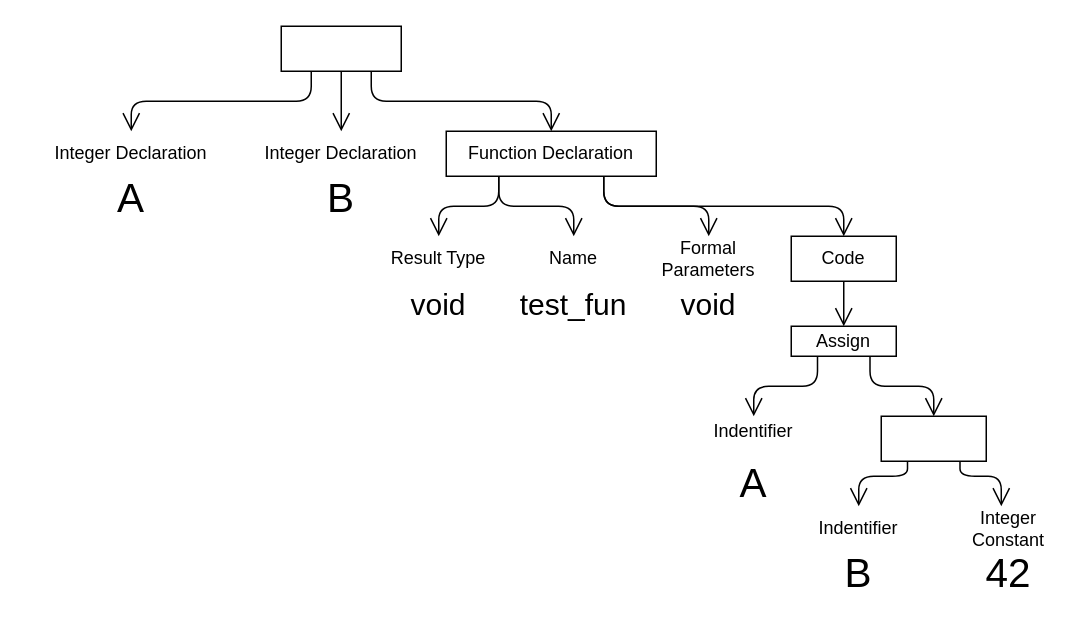
This 1086x624 diagram has some shape labels left out. The centre of each missing label's shape, as x and y in pixels:
"Declarations" belongs at (340,48).
"Integer Plus" belongs at (933,438).
